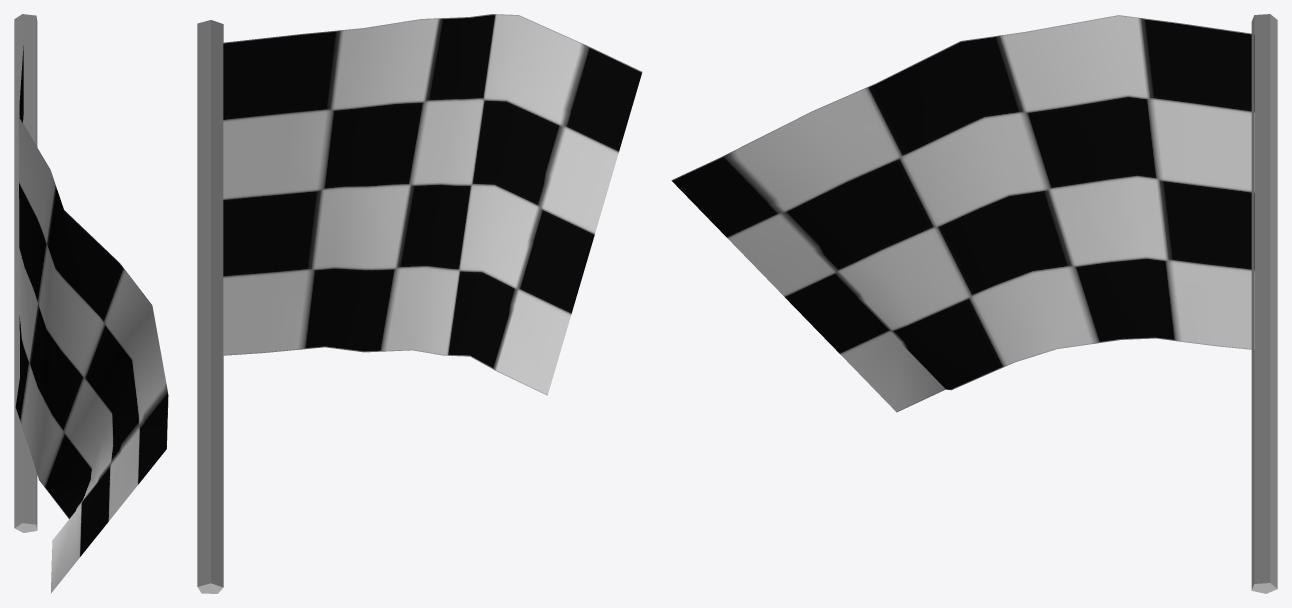
File: SLIME1.ICO.obj
3 views of the same model, side by side, from view 1: azimuth 30°, elevation 25°; view 2: azimuth 150°, elevation 25°; view 3: azimuth 270°, elevation 25° (orthographic). The views are drawn at different scales.
Bounding box in the file's own units: 0.7681 × 2.47 × 2.39.
Materials: 1 (1 with a texture image).
